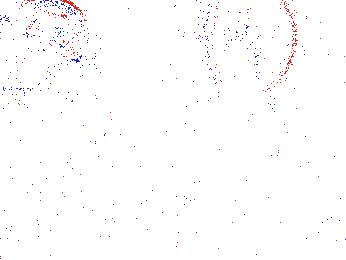moon jellyfish: (207, 1, 297, 94), (209, 84, 289, 153), (6, 1, 90, 61), (1, 14, 60, 91), (309, 56, 346, 143)
